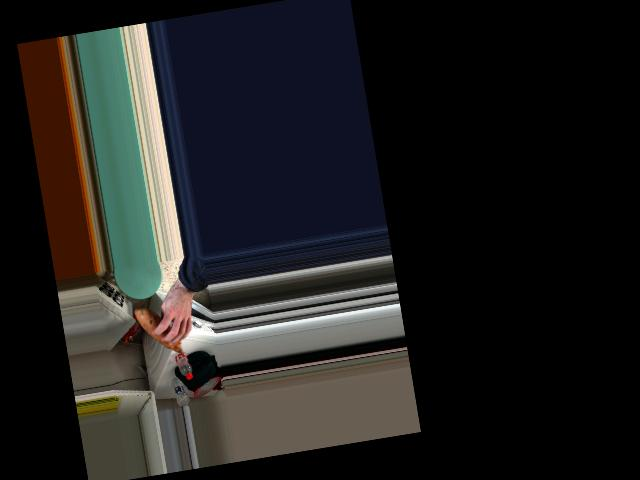sweet_potato: (136, 307, 193, 356)
